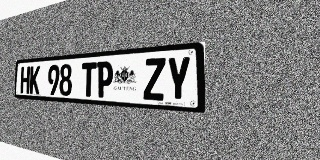8: (59, 64, 72, 96)
9: (47, 64, 60, 95)
H: (20, 66, 30, 94)
K: (29, 66, 40, 94)
P: (96, 61, 113, 98)
T: (81, 62, 97, 97)
Y: (166, 56, 191, 102)
Z: (143, 57, 166, 101)
